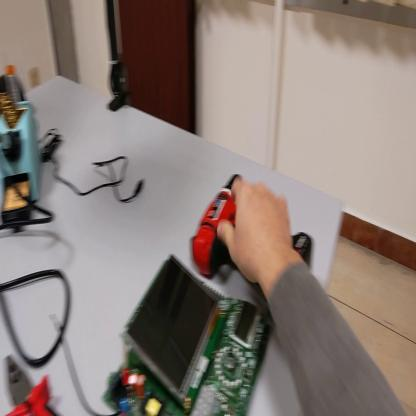electric screwdriver: (186, 174, 315, 321)
hand: (217, 177, 297, 284)
low voltage board: (101, 252, 269, 416)
pliers: (3, 358, 61, 416)
socket: (2, 76, 27, 113)
welder base: (2, 63, 43, 238)
